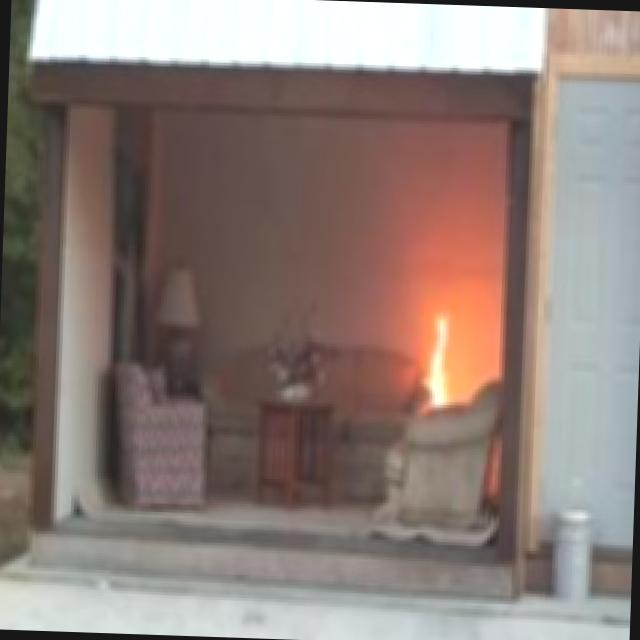fire: (407, 312, 470, 406)
